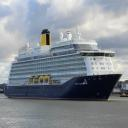cruises: (5, 24, 124, 105)
